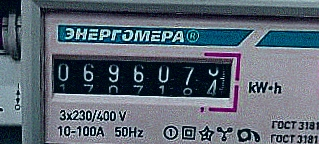0: (155, 61, 171, 84), (55, 60, 70, 82)
4: (204, 76, 218, 97)
6: (80, 60, 95, 82), (130, 62, 145, 83)
7: (180, 64, 196, 86)
9: (105, 61, 119, 83)
screen: (37, 42, 245, 109)
